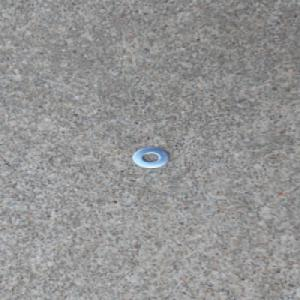Washer: (131, 146, 170, 168)
